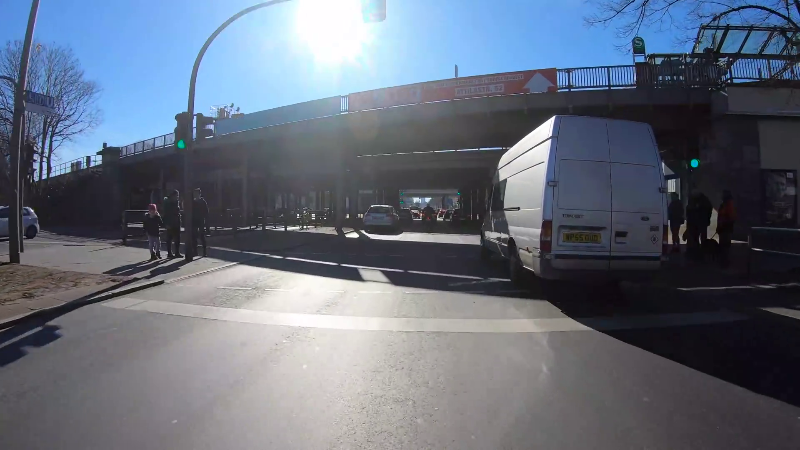Plate: (560, 231, 600, 244)
